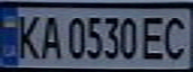0: (118, 14, 142, 62), (63, 14, 84, 61)
3: (103, 14, 121, 61)
5: (84, 14, 106, 61)
A: (36, 11, 63, 61)
C: (157, 12, 193, 62)
E: (139, 12, 172, 62)
K: (9, 11, 45, 61)
